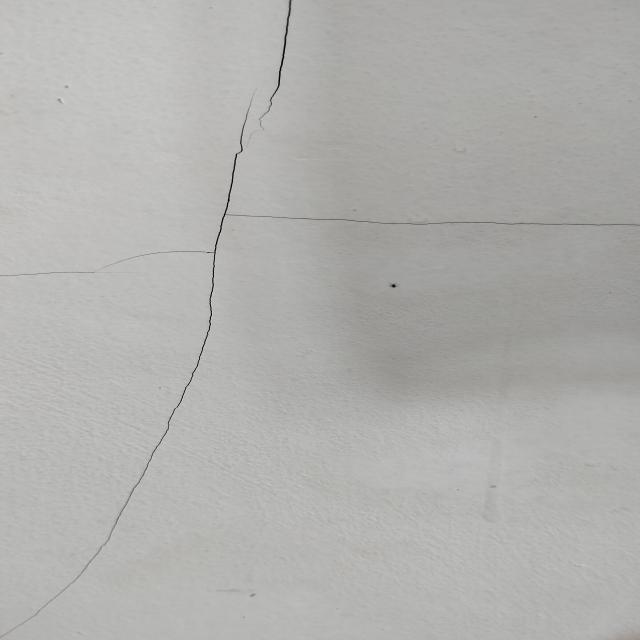Crack: (8, 2, 306, 640)
